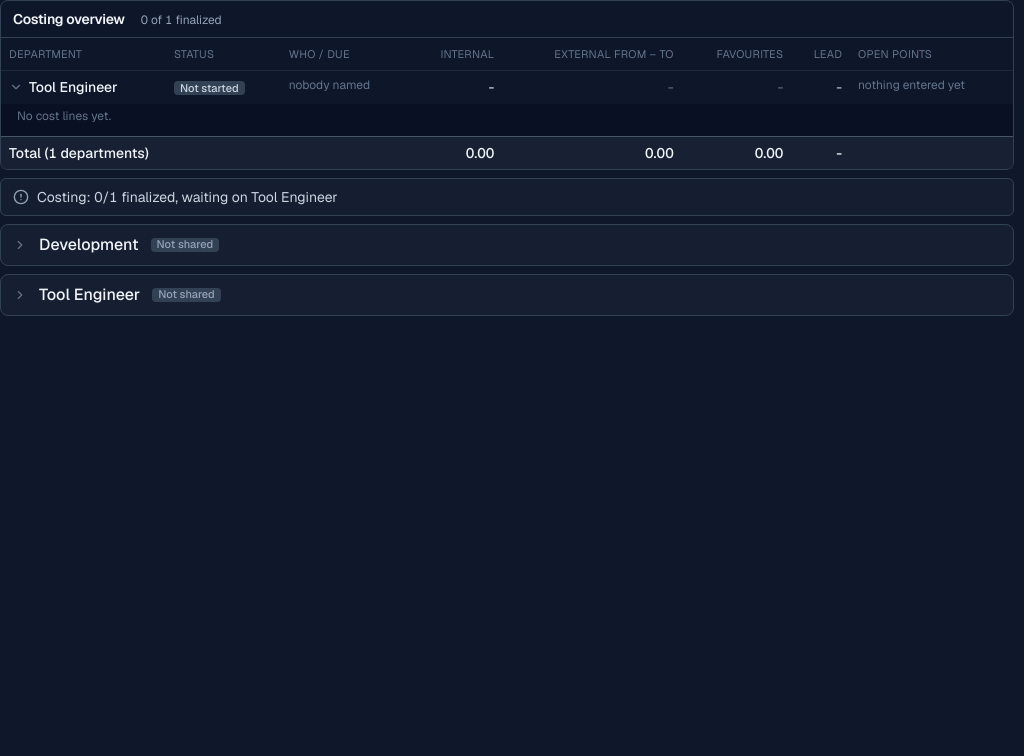
CostingBuckets › gives PM in another department's bucket what the backend lets PM do (A3-12)
Click the button with test id "costing-toggle-4".
click(90, 294)  # box [1,275,1013,315]
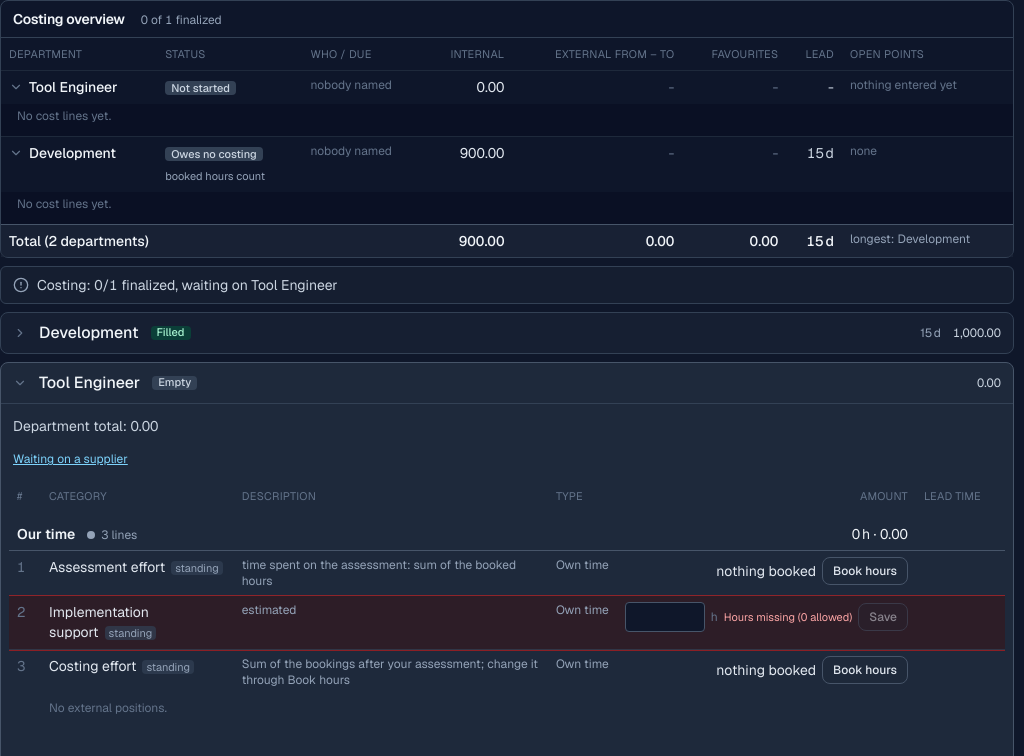
Check: the element with test id "supwait-panel-4" is shown, box [13,451,128,467]
